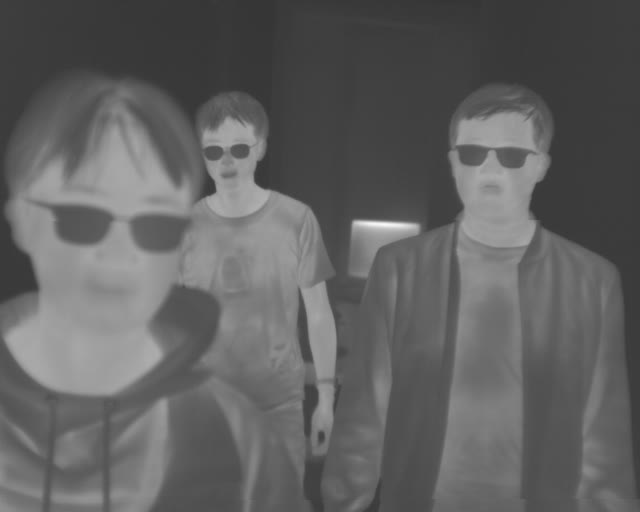face: (8, 69, 201, 335), (445, 82, 555, 224), (197, 88, 272, 194)
